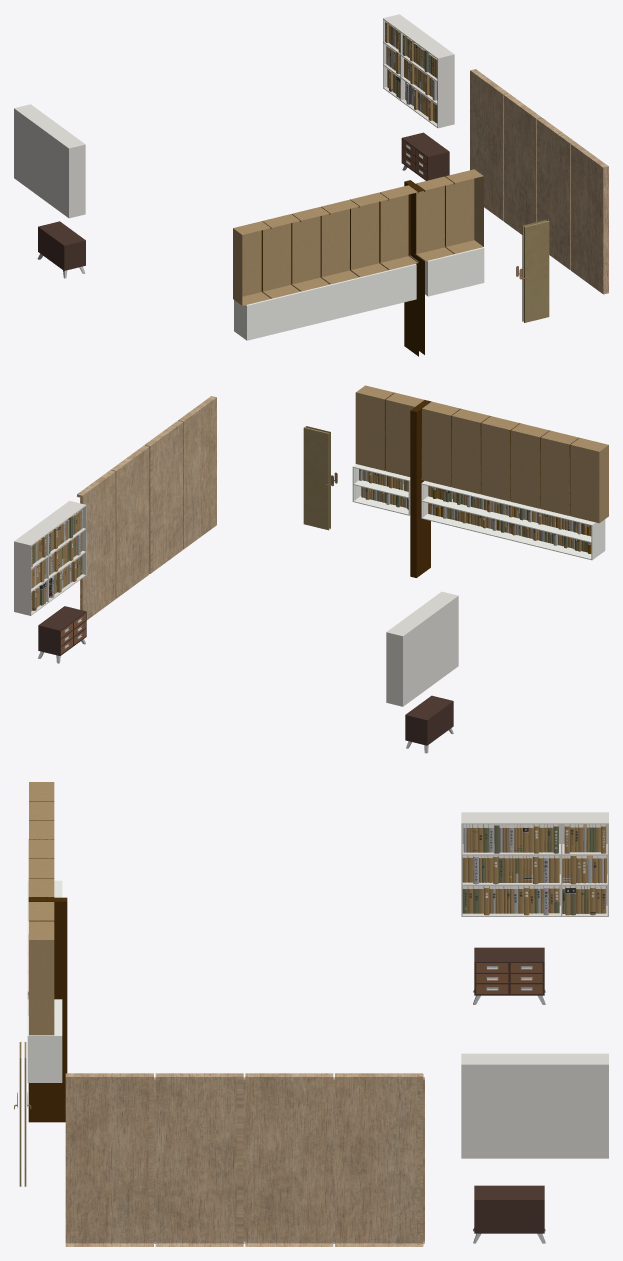
File: cajonera.gltf
3 renders of one model, top to bottom at view 1: azimuth 30°, elevation 25°; view 2: azimuth 150°, elevation 25°; view 3: azimuth 270°, elevation 25°, orthographic. The views are drawn at different scales.
Parts seen in each view (by area): view 1: placar superior uv, placar superior uv.001, Cubo A y B.001, Cubo A y B.003, cajonera, libros 3S.001, cajonera Tapa; view 2: placar superior uv, placar superior uv.001, Cubo A y B.001, Cubo A y B.003, libros largo, cajonera, libros 3S.001; view 3: placar superior uv.001, Cubo A y B.001, libros 3S.001, placar superior uv, cajonera, Cubo A y B.003, cajonera Tapa.
Boxes of the visible parts, <box> form: placar superior uv: <box>233,169,483,356</box>; placar superior uv.001: <box>470,69,608,322</box>; Cubo A y B.001: <box>14,14,454,218</box>; Cubo A y B.003: <box>234,247,484,340</box>; cajonera: <box>37,132,449,278</box>; libros 3S.001: <box>385,21,437,123</box>; cajonera Tapa: <box>402,140,427,179</box>; placar superior uv: <box>355,385,608,577</box>; placar superior uv.001: <box>76,396,337,620</box>; Cubo A y B.001: <box>14,500,458,706</box>; Cubo A y B.003: <box>352,464,605,560</box>; libros largo: <box>359,469,591,553</box>; cajonera: <box>38,606,453,753</box>; libros 3S.001: <box>31,509,82,611</box>; placar superior uv.001: <box>14,1042,424,1246</box>; Cubo A y B.001: <box>461,812,608,1158</box>; libros 3S.001: <box>462,824,606,915</box>; placar superior uv: <box>28,782,67,1122</box>; cajonera: <box>473,947,545,1243</box>; Cubo A y B.003: <box>27,880,62,1082</box>; cajonera Tapa: <box>476,963,542,993</box>.
Size of the model in its own units: 66.77 by 26.77 by 65.35.
9 materials, 9 textured.
